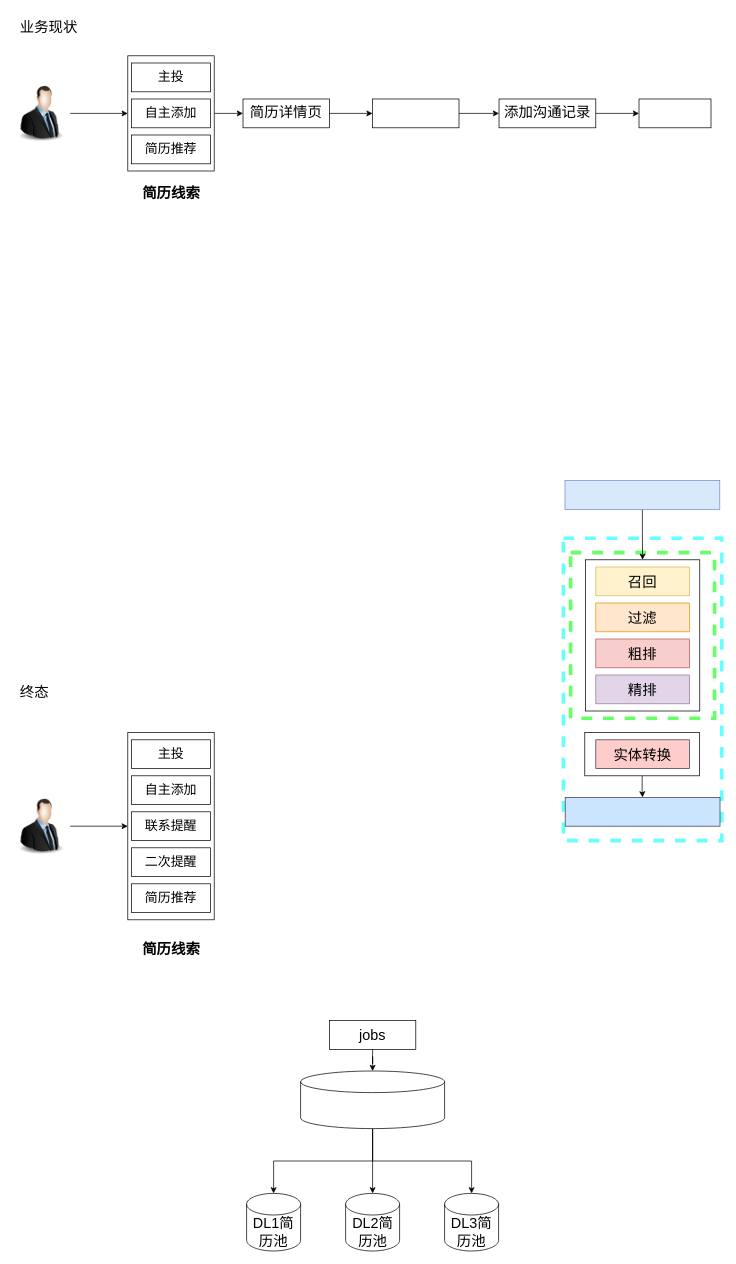
The diagram is 736 pixels wide and 1264 high, and some of its shapes have lost their labels. Here are the shapes that lost their labels. From the top down, the box of each, then its label:
(372, 98, 459, 128): 下载简历
(638, 98, 711, 128): 邀约
(564, 480, 720, 509): 付费简历定时任务
(564, 797, 720, 826): 存入ES
(300, 1070, 445, 1129): 推荐简历池
